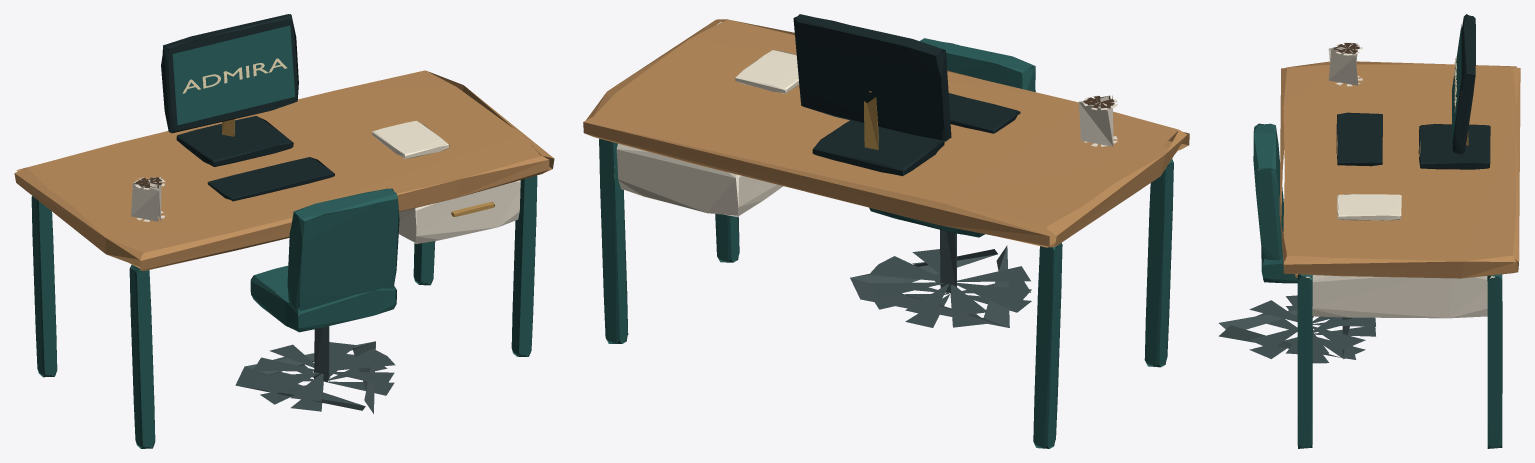
File: good.glb
3 renders of one model, left to right at view 1: azimuth 30°, elevation 25°; view 2: azimuth 150°, elevation 25°; view 3: azimuth 270°, elevation 25°, orthographic. The views are drawn at different scales.
Visible parts, largest first — view 1: Native component 0, Native component 10, Native component 16, Native component 4, Native component 8, Native component 1, Native component 5, Sign ADMIRA; view 2: Native component 0, Native component 16, Native component 10, Native component 8, Native component 1, Native component 5, Native component 2; view 3: Native component 0, Native component 10, Native component 1, Native component 16, Native component 8, Native component 5, Native component 4.
Boxes of the visible parts, <box> form: Native component 0: <box>14,70,554,271</box>; Native component 10: <box>31,175,537,448</box>; Native component 16: <box>161,14,334,201</box>; Native component 4: <box>172,25,295,125</box>; Native component 8: <box>235,326,395,413</box>; Native component 1: <box>131,177,523,243</box>; Native component 5: <box>372,120,449,159</box>; Sign ADMIRA: <box>182,58,287,93</box>; Native component 0: <box>583,19,1189,247</box>; Native component 16: <box>793,14,1020,176</box>; Native component 10: <box>599,38,1173,448</box>; Native component 8: <box>850,230,1031,327</box>; Native component 1: <box>614,95,1117,216</box>; Native component 5: <box>735,50,799,93</box>; Native component 2: <box>864,91,878,149</box>; Native component 0: <box>1279,61,1520,278</box>; Native component 10: <box>1253,123,1502,448</box>; Native component 1: <box>1305,42,1495,318</box>; Native component 16: <box>1336,14,1490,169</box>; Native component 8: <box>1219,295,1375,363</box>; Native component 5: <box>1337,194,1401,220</box>; Native component 4: <box>1452,24,1461,143</box>.
Bounding box in the file's own units: 2 × 1.42 × 1.27.
